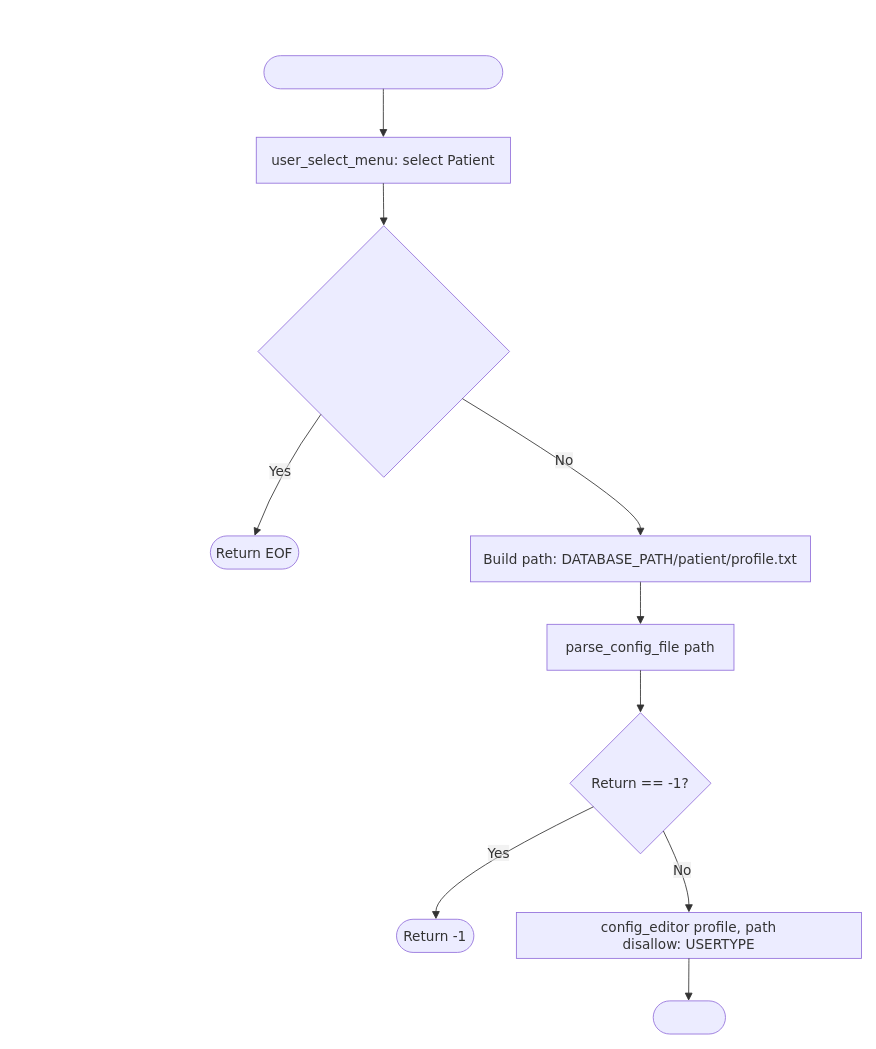
This 876x1049 diagram has some shape labels left out. The shapes that lost their labels are listed below. From the top down, each one's centre as x and y in pixels, then its label:
[383,72]: Start: doctor_view_patients_profile
[383,351]: patient == empty string?
[688,1017]: Return 0
